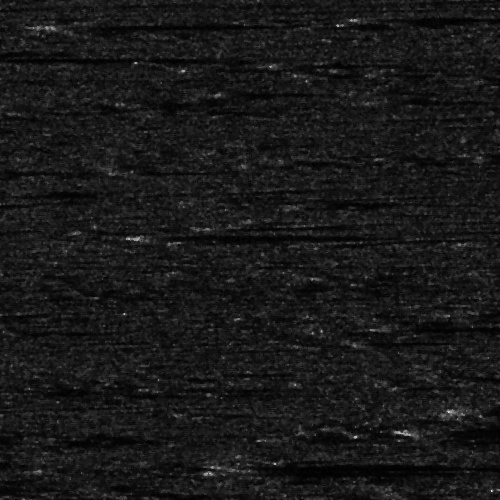object: (314, 322, 439, 331), (112, 229, 165, 240), (362, 427, 435, 434), (248, 60, 311, 67), (226, 459, 257, 470), (220, 465, 251, 476), (215, 90, 256, 97)
shadow: (139, 229, 388, 240), (242, 459, 487, 470), (236, 465, 481, 476), (279, 60, 474, 67), (377, 322, 500, 331), (399, 427, 500, 434), (236, 90, 334, 97), (0, 54, 222, 57), (0, 135, 18, 168)
